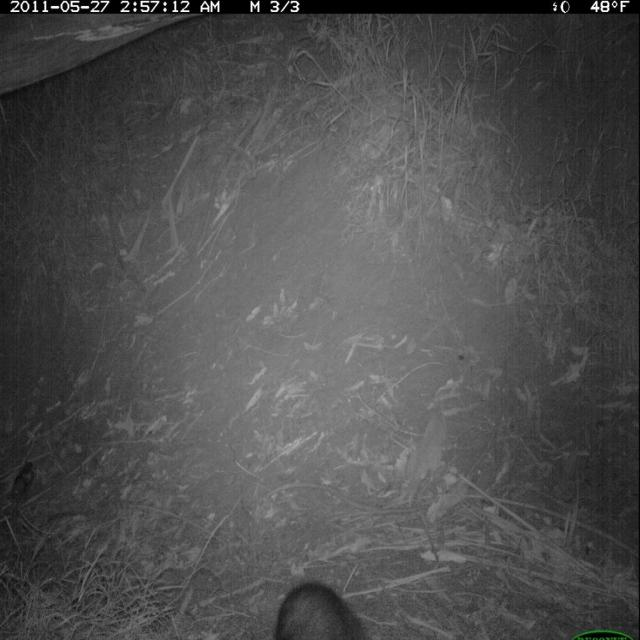raccoon: (265, 575, 384, 640)
